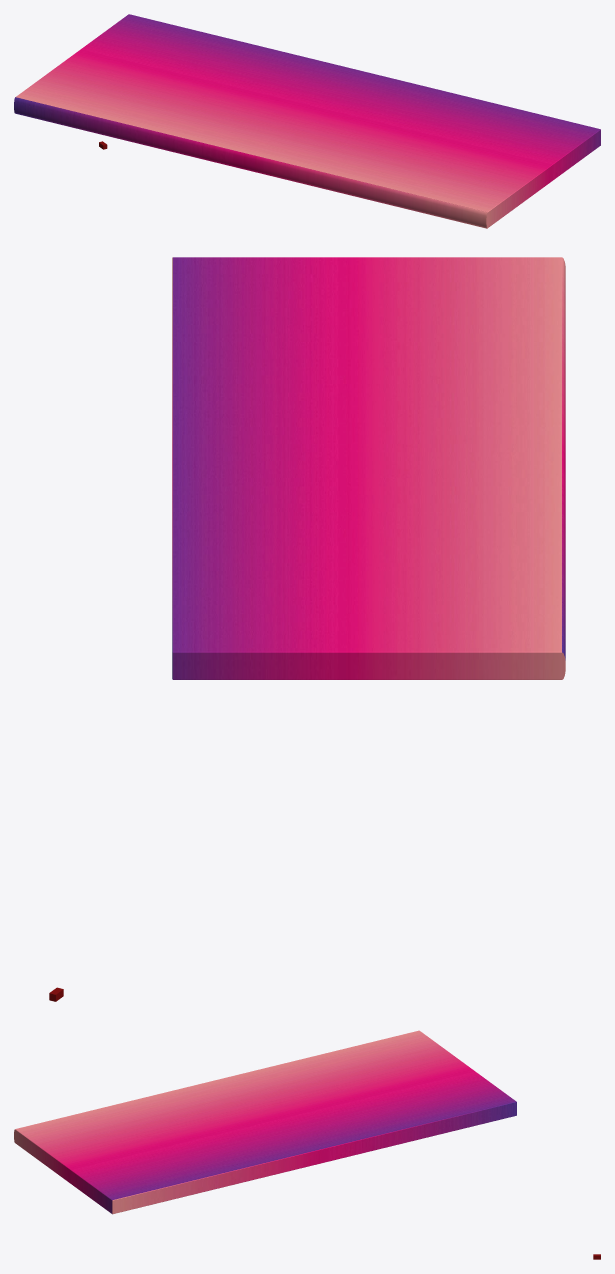
The model's file is intento.obj.
The picture shows the model from 3 angles, top to bottom: view 1: azimuth 30°, elevation 25°; view 2: azimuth 150°, elevation 25°; view 3: azimuth 270°, elevation 25°; orthographic projection. The views are drawn at different scales.
Parts seen in each view (by area): view 1: shelf; view 2: shelf; view 3: shelf.
Boxes of the visible parts, <box> form: shelf: <box>14,14,600,228</box>; shelf: <box>172,257,565,679</box>; shelf: <box>14,1030,516,1214</box>.
Bounding box in the file's own units: 51.85 × 21 × 75.36.
2 materials, 1 textured.
